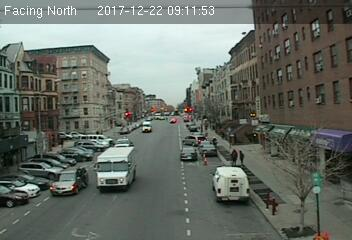car: (50, 167, 90, 197), (180, 146, 197, 161), (199, 143, 217, 155)
pedestrian: (229, 145, 237, 163), (237, 146, 245, 163)
truck: (95, 146, 137, 191), (212, 164, 250, 204), (142, 120, 152, 132)
